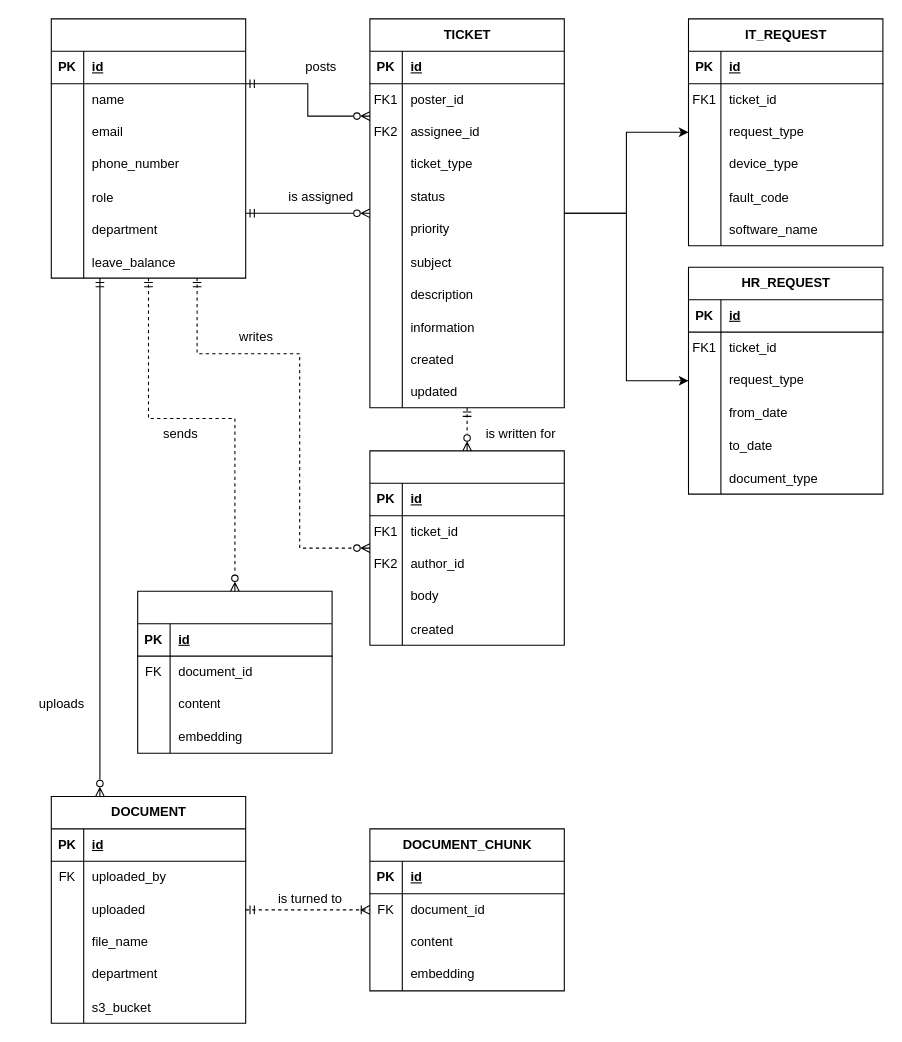
Image size: 902x1042. Some labels were removed from this diagram. Each missing label, with the box of its shape:
CHAT_MESSAGE: (137, 590, 332, 753)
TICKET_COMMENT: (369, 450, 564, 645)
USER: (50, 18, 246, 278)
